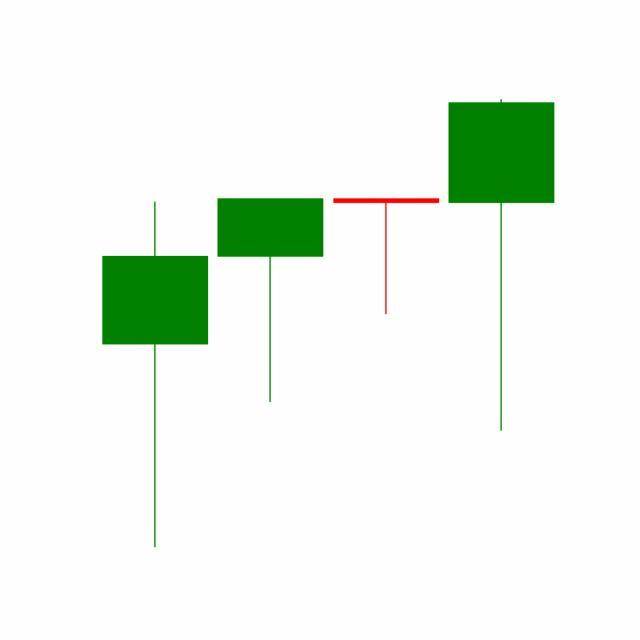Hanging Man: (329, 197, 445, 316)
